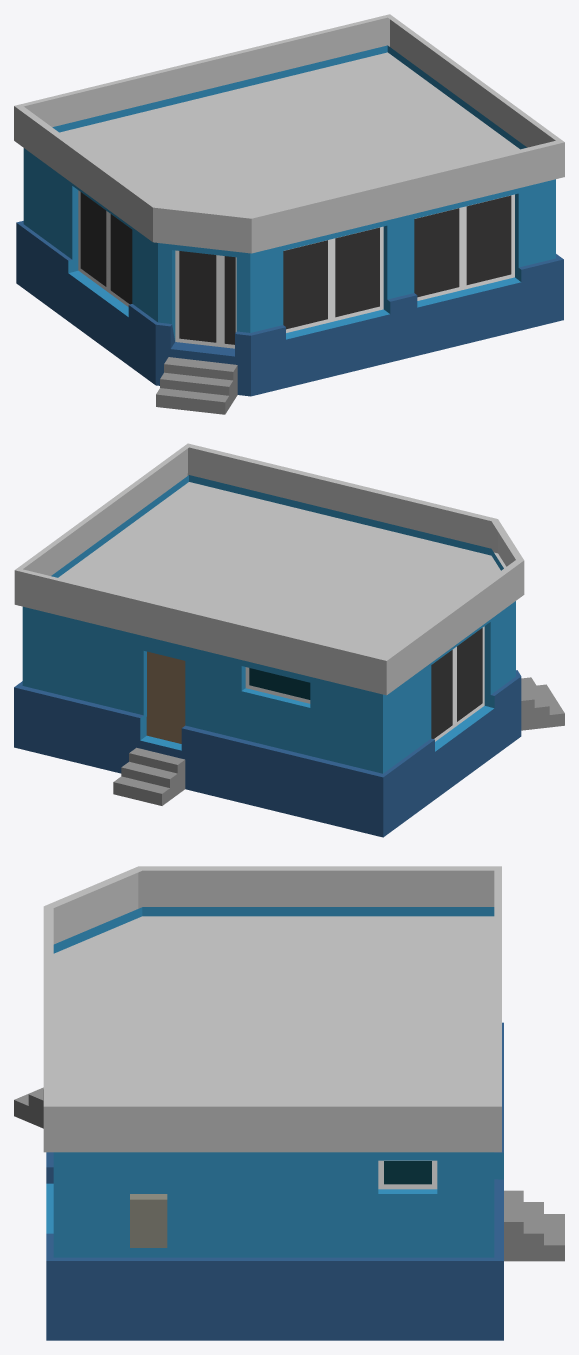
File: building5_ground.fbx
The picture shows the model from 3 angles, top to bottom: view 1: azimuth 30°, elevation 25°; view 2: azimuth 150°, elevation 25°; view 3: azimuth 270°, elevation 25°; orthographic projection. The views are drawn at different scales.
Visible parts, largest first — view 1: building5_ground; view 2: building5_ground; view 3: building5_ground.
Boxes of the visible parts, x1=… form: building5_ground: x1=14, y1=14, x2=564, y2=414; building5_ground: x1=14, y1=443, x2=564, y2=837; building5_ground: x1=14, y1=866, x2=564, y2=1340.
Size of the model in its own units: 818 by 350 by 747.
